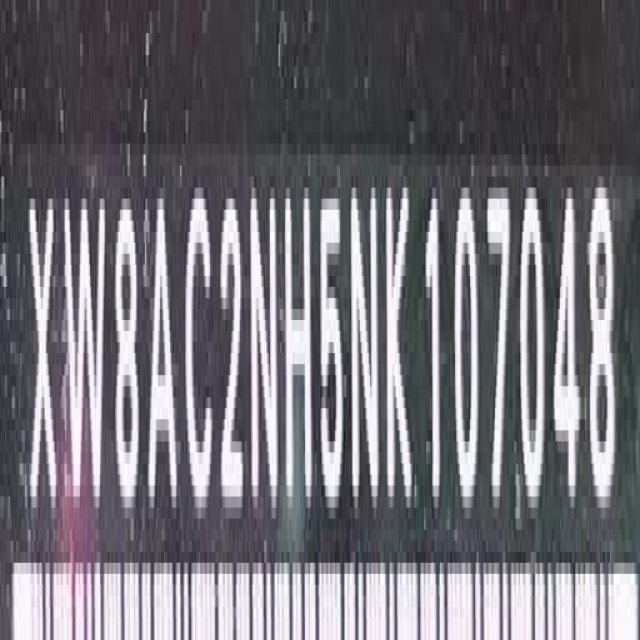0: (521, 176, 549, 515), (456, 176, 481, 515)
1: (424, 167, 443, 518)
2: (218, 187, 245, 520)
4: (552, 175, 582, 516)
5: (318, 179, 344, 516)
7: (486, 174, 512, 514)
8: (591, 177, 619, 512), (115, 190, 140, 517)
A: (146, 183, 177, 525)
C: (186, 188, 216, 520)
H: (286, 179, 314, 517)
K: (385, 159, 414, 515)
N: (350, 171, 381, 514), (249, 183, 280, 518)
W: (62, 187, 105, 526)
X: (26, 193, 56, 526)
